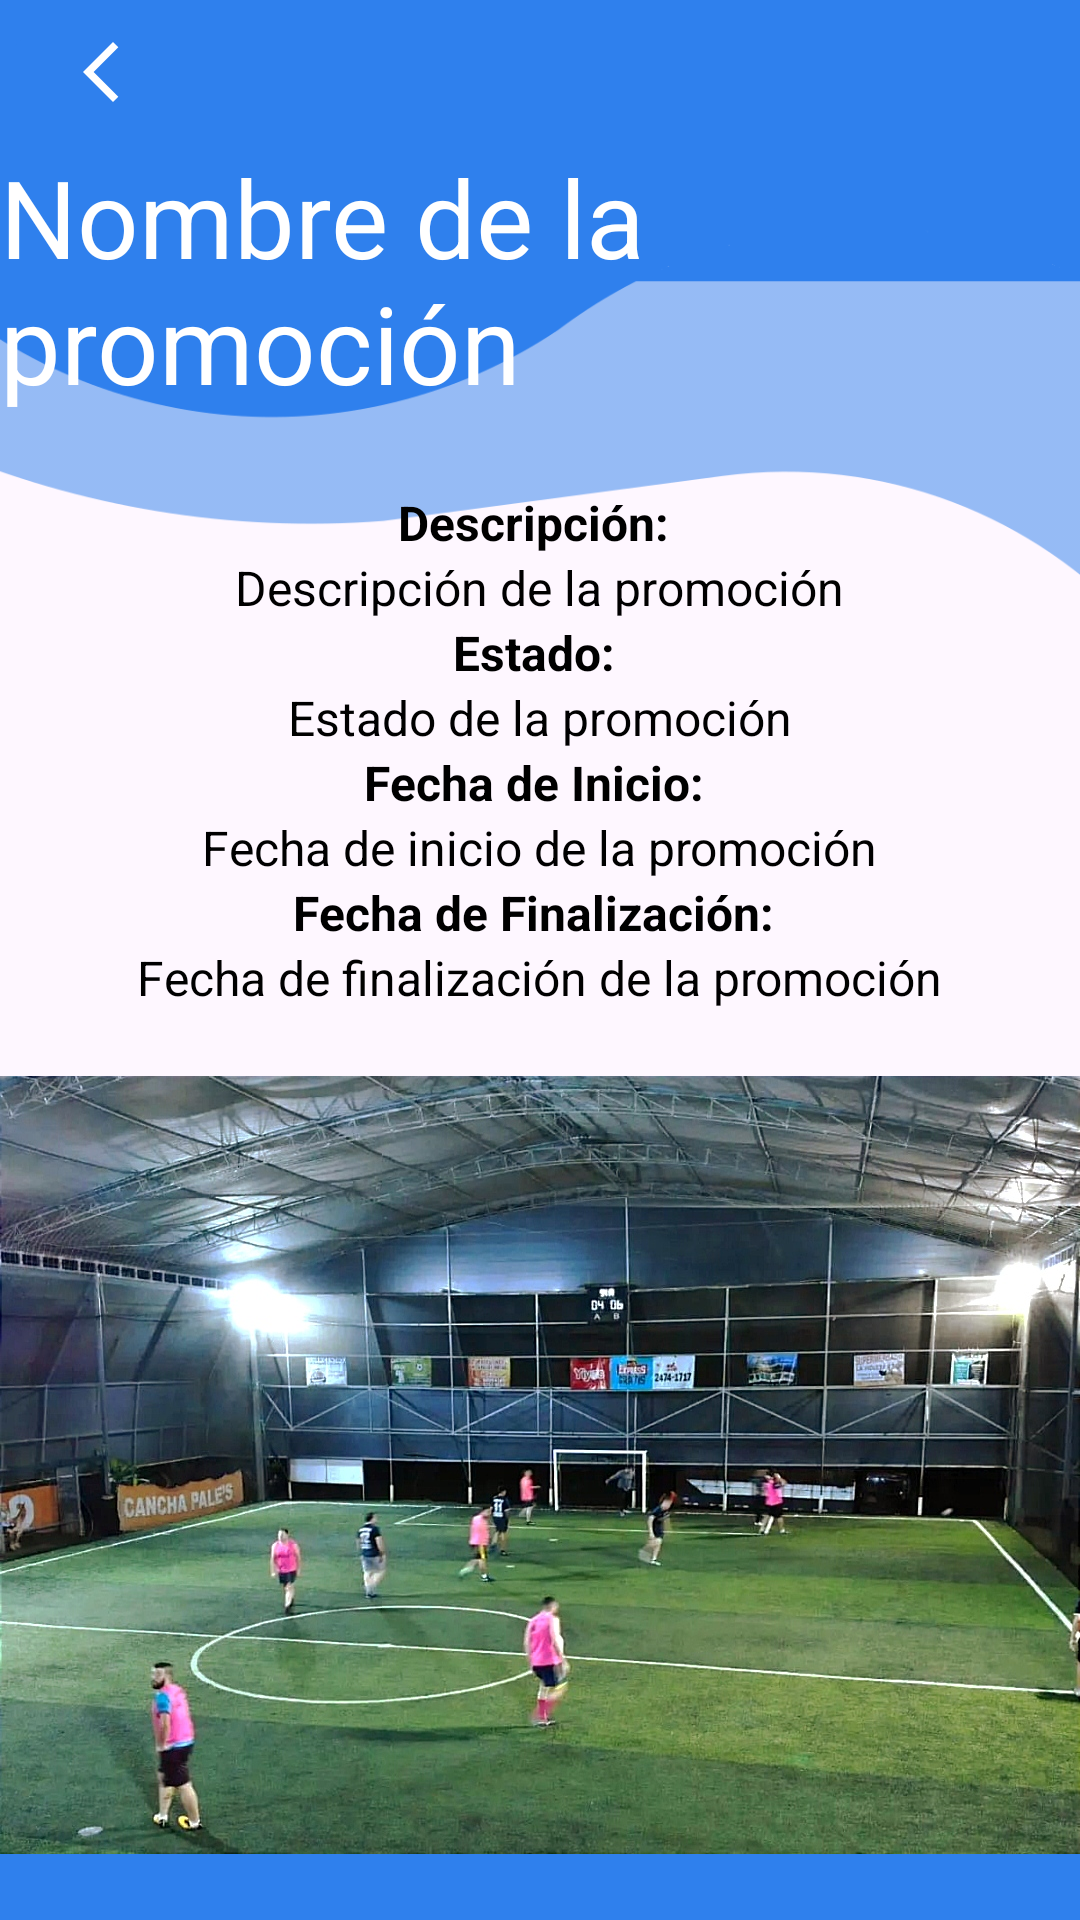

Screen size 1080w x 1920h. Icon name, then its box in pixels as Rect(x1, y1, x2, y2):
Go back: Rect(83, 42, 118, 102)
